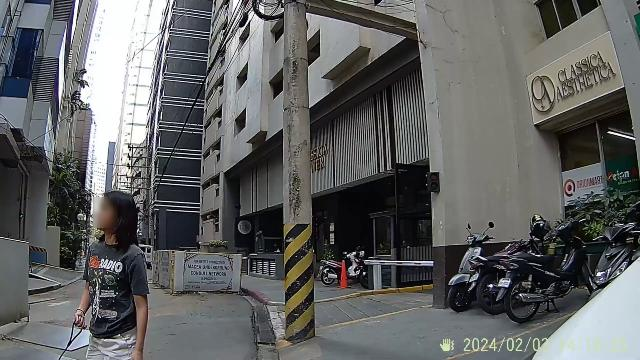construction_materials: (160, 247, 244, 295)
utility_post: (280, 3, 322, 342)
